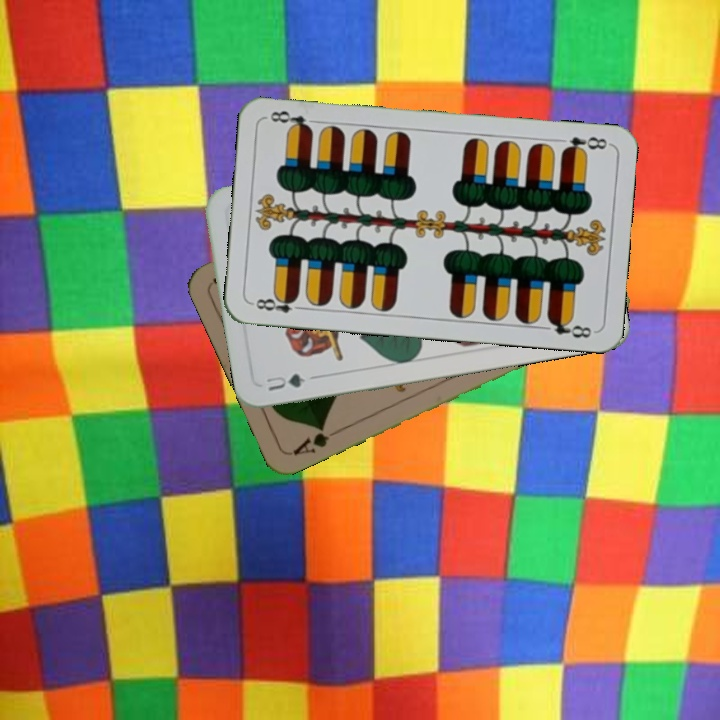E8: (251, 291, 307, 315), (557, 132, 610, 157)
GA: (288, 421, 344, 459)
GU: (262, 369, 308, 394)
